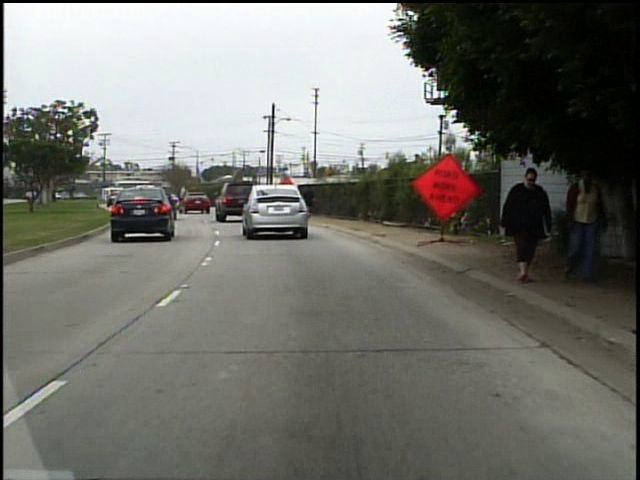person: (489, 164, 552, 294), (555, 161, 608, 289), (298, 178, 319, 215)
